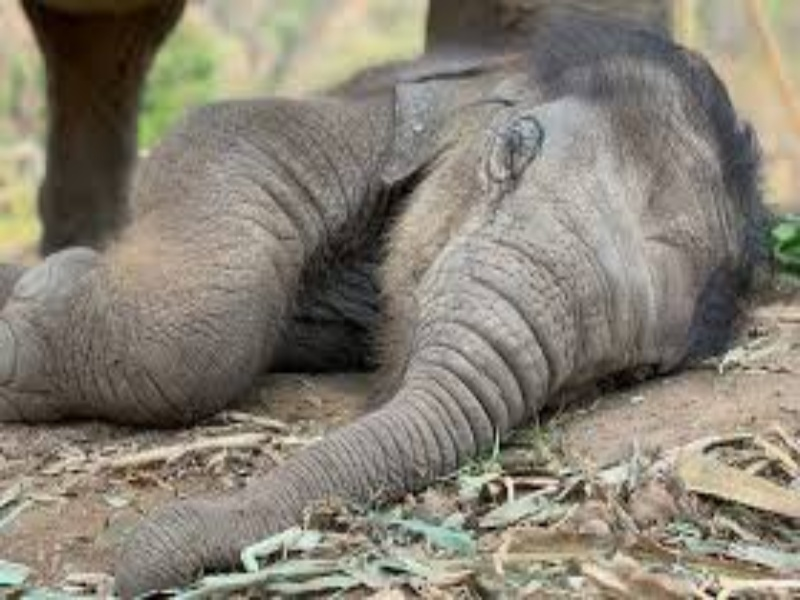elephant: (17, 25, 758, 587)
